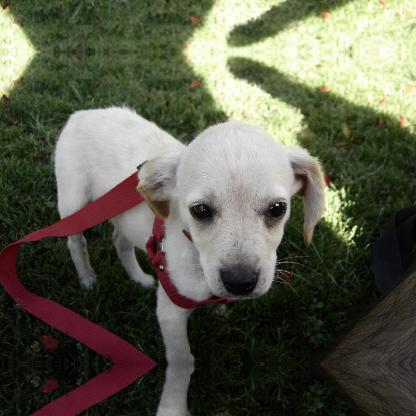Dog: (53, 102, 326, 362)
